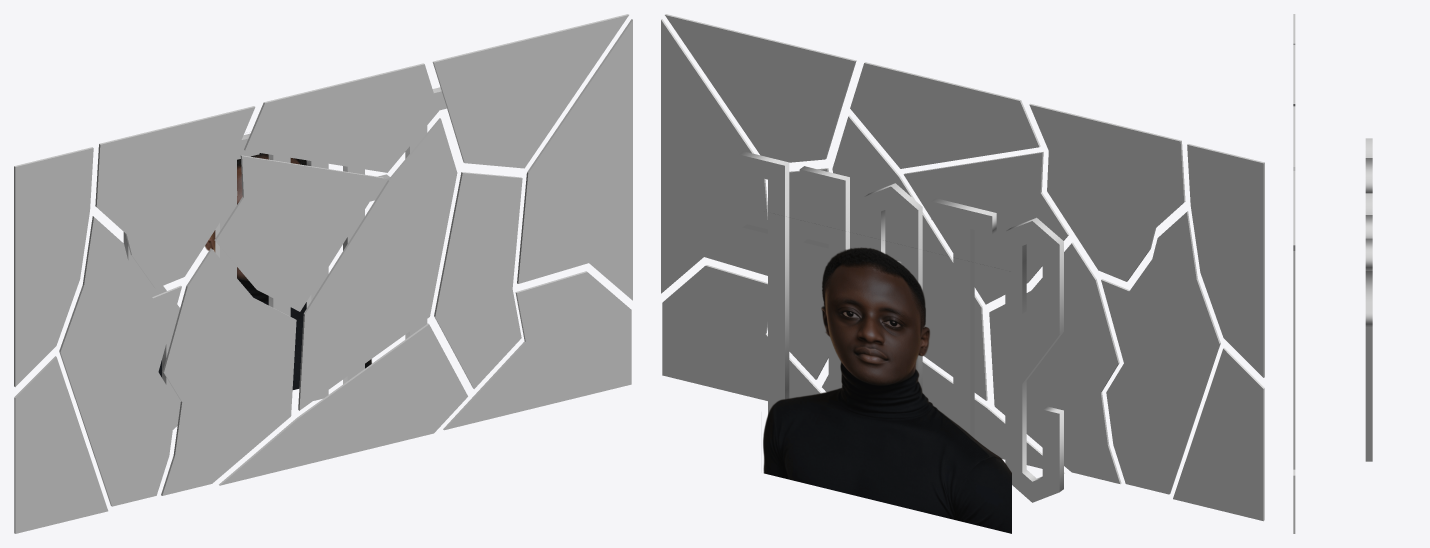
File: hero3.glb
3 renders of one model, left to right at view 1: azimuth 30°, elevation 25°; view 2: azimuth 150°, elevation 25°; view 3: azimuth 270°, elevation 25°, orthographic. The views are drawn at different scales.
Visible parts, largest first — view 1: Plane.010, Plane.006, Plane.007, Plane.003, Plane.005, Plane.011, Plane.001, Plane.009, Plane.008, Plane.012, Plane.002, Plane.004 (+3 smaller); view 2: Image, Text, Plane.006, Plane.003, Plane.005, Plane.007, Plane.011, Plane.002, Plane.004, Plane.001, Plane, Plane.009 (+3 smaller); view 3: Text, Plane.003, Plane.011, Plane.004, Plane.001, Plane.005.
Boxes of the visible parts, bbox=[...] form: Plane.010: bbox=[298, 118, 457, 410]; Plane.006: bbox=[59, 216, 181, 506]; Plane.007: bbox=[161, 248, 296, 495]; Plane.003: bbox=[517, 19, 632, 300]; Plane.005: bbox=[95, 106, 255, 288]; Plane.011: bbox=[432, 14, 628, 168]; Plane.001: bbox=[443, 271, 631, 430]; Plane.009: bbox=[214, 155, 384, 311]; Plane.008: bbox=[219, 323, 467, 485]; Plane.012: bbox=[434, 172, 522, 388]; Plane.002: bbox=[14, 147, 93, 386]; Plane.004: bbox=[244, 63, 439, 172]; Image: bbox=[763, 247, 1011, 533]; Text: bbox=[739, 151, 1063, 502]; Plane.006: bbox=[1101, 211, 1220, 494]; Plane.003: bbox=[661, 19, 767, 293]; Plane.005: bbox=[1029, 103, 1185, 281]; Plane.007: bbox=[989, 242, 1121, 483]; Plane.011: bbox=[665, 14, 856, 162]; Plane.002: bbox=[1187, 144, 1264, 377]; Plane.004: bbox=[850, 62, 1040, 168]; Plane.001: bbox=[662, 265, 821, 400]; Plane: bbox=[1173, 348, 1264, 521]; Plane.009: bbox=[903, 152, 1069, 304]; Text: bbox=[1365, 138, 1372, 461]; Plane.003: bbox=[1293, 251, 1295, 469]; Plane.011: bbox=[1293, 171, 1295, 250]; Plane.004: bbox=[1293, 106, 1295, 170]; Plane.001: bbox=[1293, 469, 1295, 533]; Plane.005: bbox=[1293, 45, 1295, 106].
Bounding box in the file's own units: 15.1 × 8.68 × 3.32.
Materials: 1 (1 with a texture image).
